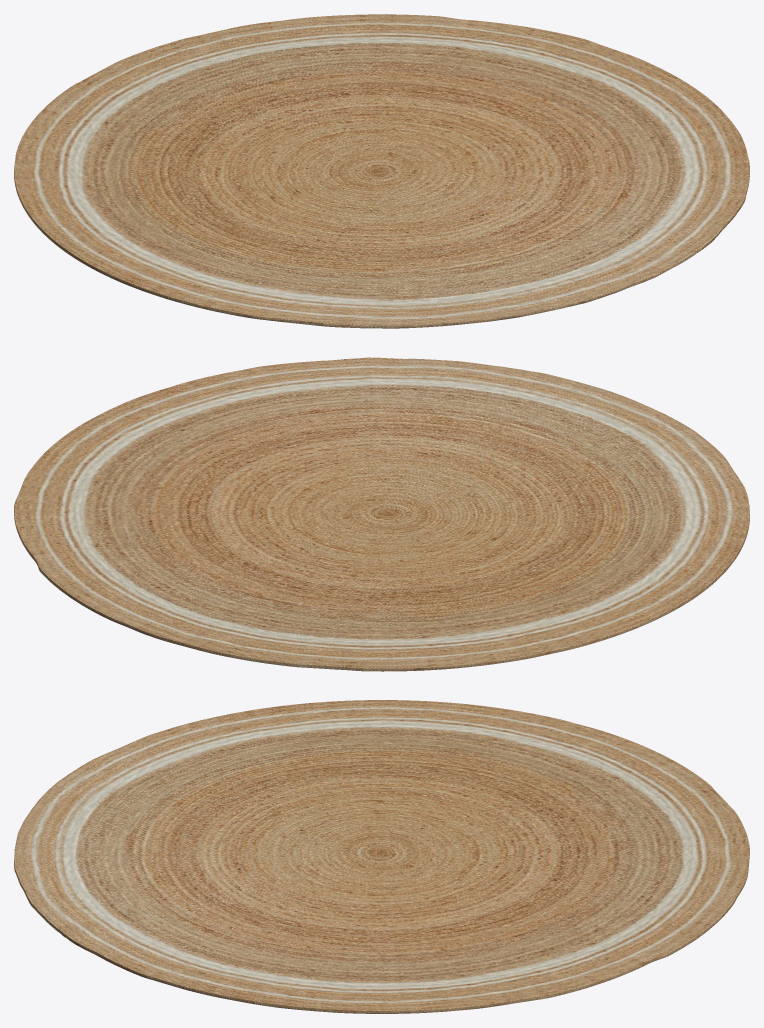
Rendered from B0719STM26.glb.
The picture shows the model from 3 angles, top to bottom: view 1: azimuth 30°, elevation 25°; view 2: azimuth 150°, elevation 25°; view 3: azimuth 270°, elevation 25°; orthographic projection.
Visible parts, largest first — view 1: RootNode; view 2: RootNode; view 3: RootNode.
Part boxes in pixels (bbox=[...]): RootNode: bbox=[14, 14, 749, 328]; RootNode: bbox=[14, 357, 749, 671]; RootNode: bbox=[14, 700, 749, 1013].
Size of the model in its own units: 2.44 by 0.0146 by 2.44.
1 material, 1 textured.
